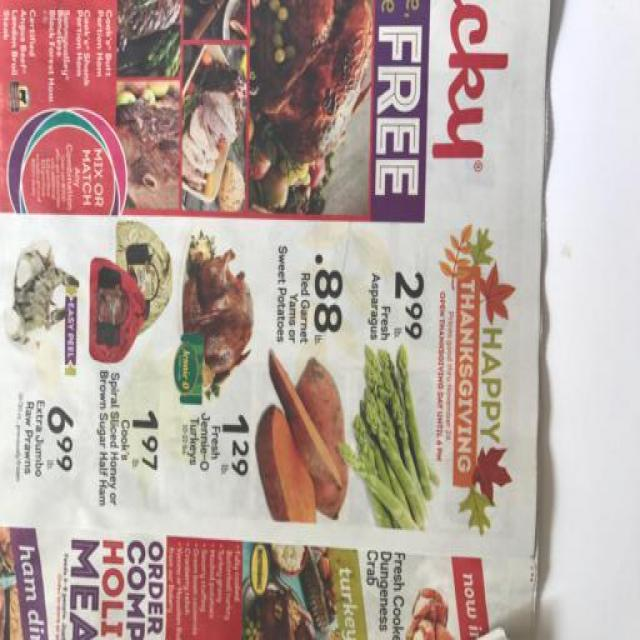paper: (1, 2, 537, 638)
